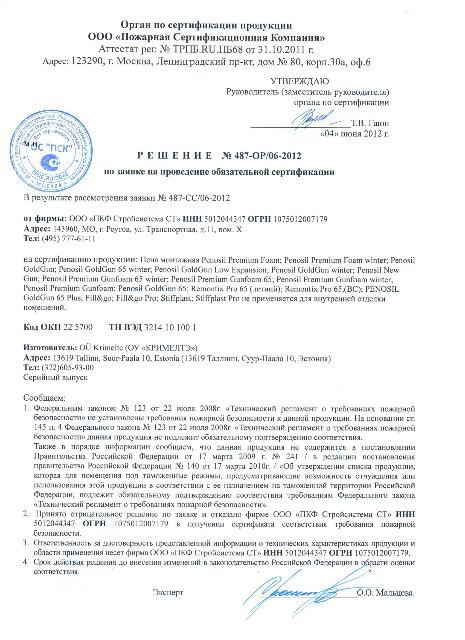stamp: (10, 110, 94, 192)
